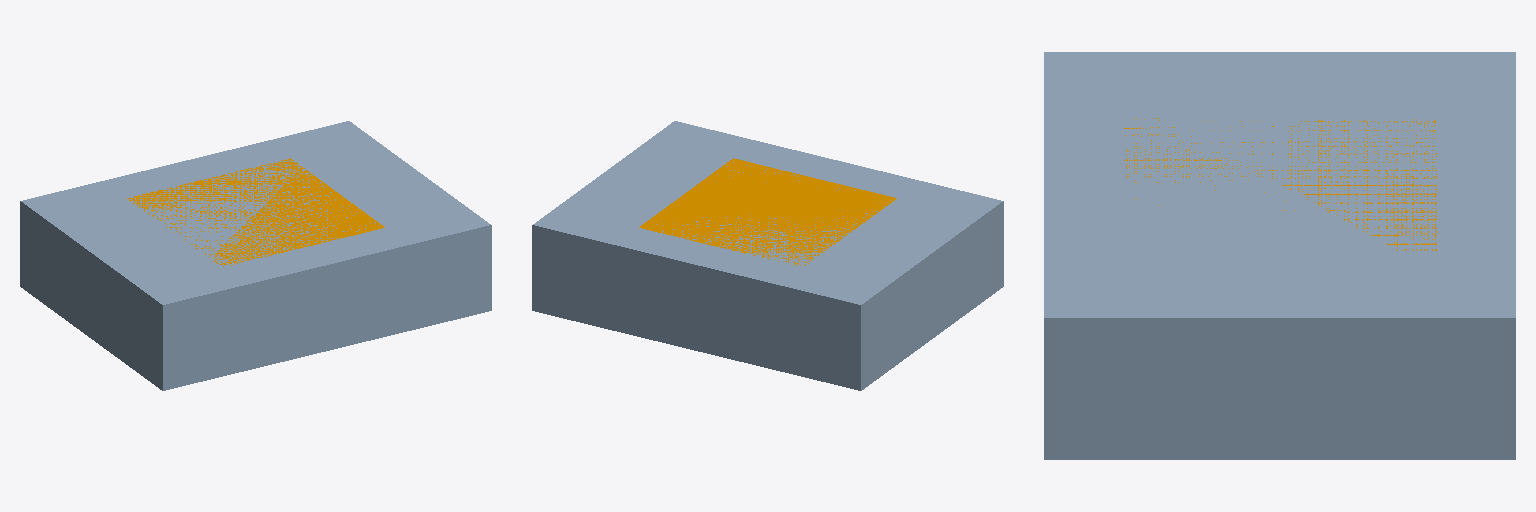
robot.urdf — visor_sample_mesh:
<?xml version="1.0"?>
<!-- One primitive, one mesh reachable through a relative path, and one package:// that no root provides, so partial success and the failure message can both be checked. -->
<robot name="visor_sample_mesh">

  <link name="base_link">
    <visual name="body">
      <geometry>
        <box size="0.4 0.3 0.1"/>
      </geometry>
      <material name="visor_body">
        <color rgba="0.62 0.70 0.78 1.0"/>
      </material>
    </visual>
    <visual name="shell">
      <origin xyz="0.0 0.0 0.05" rpy="0.0 0.0 0.0"/>
      <geometry>
        <mesh filename="../meshes/shell.stl" scale="1 1 1"/>
      </geometry>
    </visual>
    <visual name="missing">
      <geometry>
        <mesh filename="package://visor_nowhere/meshes/absent.stl"/>
      </geometry>
    </visual>
  </link>

</robot>

--- Render facts (derived) ---
Views: 3 orthographic renders of the robot side by side, from view 1: azimuth 30°, elevation 25°; view 2: azimuth 150°, elevation 25°; view 3: azimuth 270°, elevation 25°.
Robot: visor_sample_mesh — 1 links, 0 joints (none); root link base_link; default pose: all joints at 0.
Visible links, largest first — view 1: base_link; view 2: base_link; view 3: base_link.
Link boxes in pixels (box(x1,y1,x2,y2)): base_link: box(20, 121, 491, 390); base_link: box(532, 121, 1003, 390); base_link: box(1044, 52, 1515, 459).
Size in the robot's own frame: 0.4 by 0.3 by 0.1 metres.
1 mesh visuals loaded from 2 distinct referenced files (1 ASCII STL); not drawn: 1 (reference not matched to a file when rendering).
